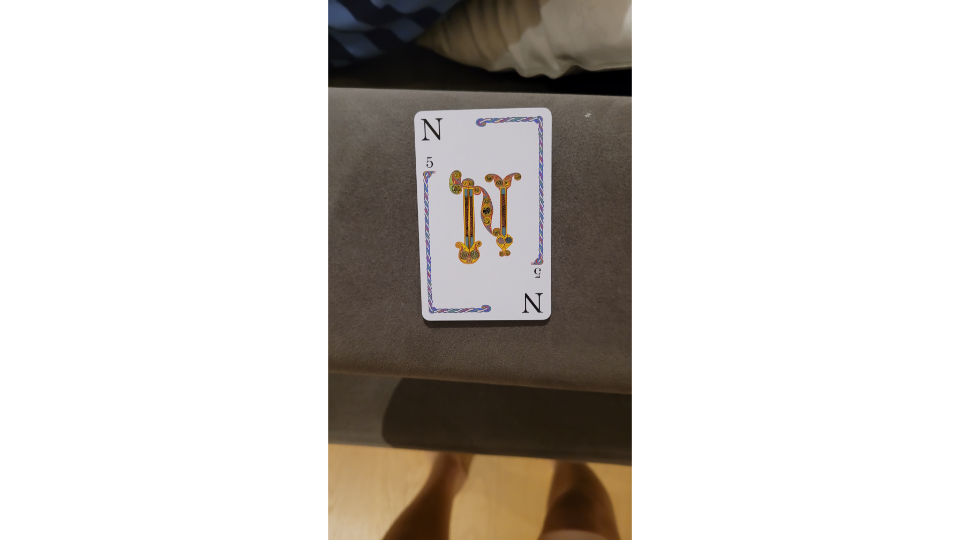N: (410, 104, 559, 324)
